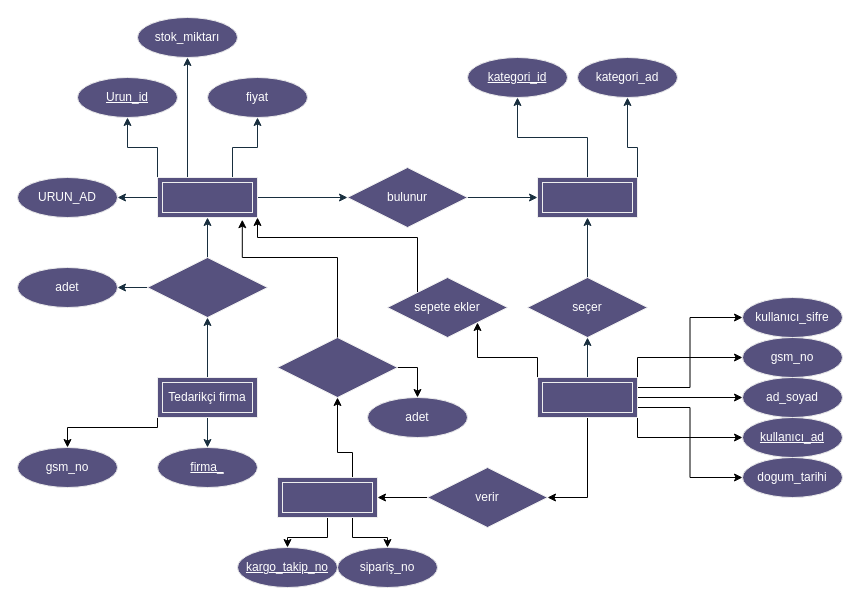
The diagram is 860 pixels wide and 605 high, and some of its shapes have lost their labels. Each missing label, with the centre of its shape:
içerir: point (337, 367)
Kategoriler: point (587, 197)
müşteri: point (587, 397)
sipariş: point (327, 497)
tedarik eder: point (207, 287)
Ürünler: point (207, 197)
